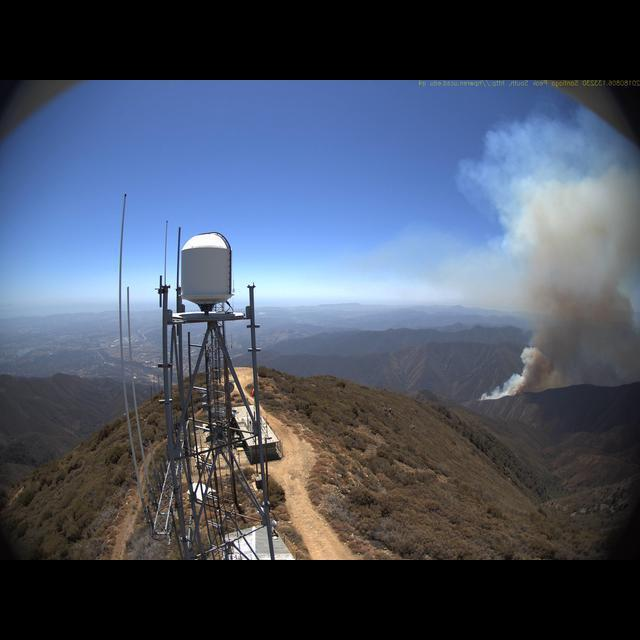Smoke: (465, 107, 639, 403)
